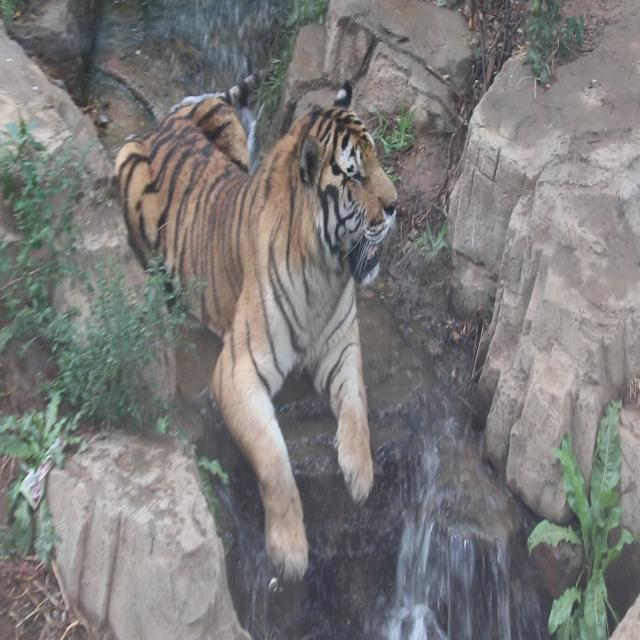Tiger: (107, 46, 416, 568)
